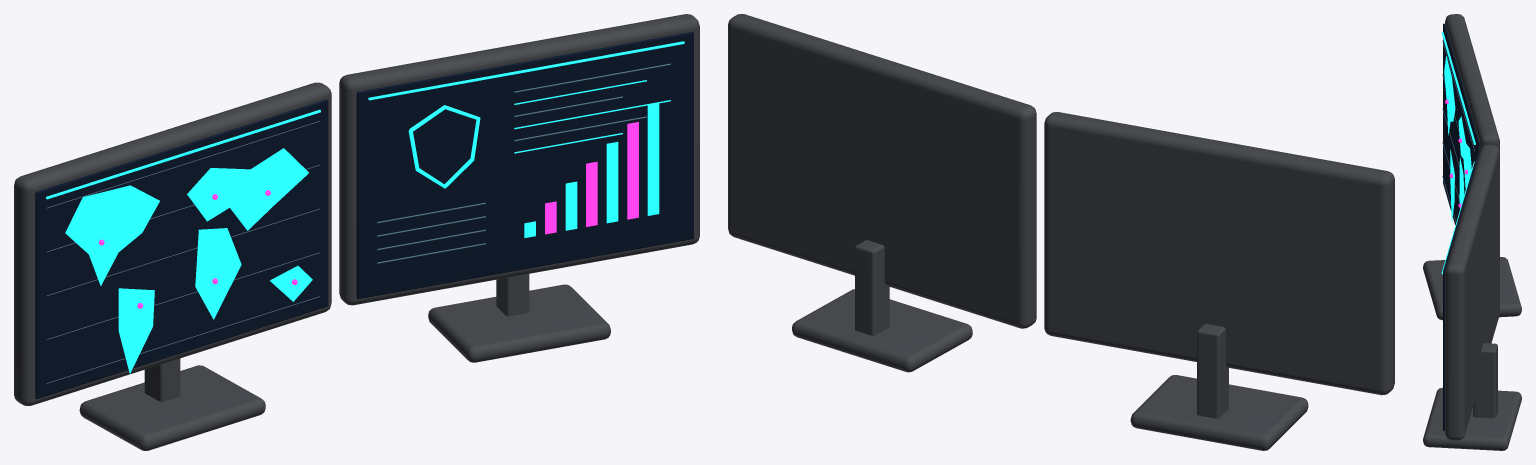
Rendered from estacoes_monitores.glb.
The picture shows the model from 3 angles, left to right: view 1: azimuth 30°, elevation 25°; view 2: azimuth 150°, elevation 25°; view 3: azimuth 270°, elevation 25°; orthographic projection. The views are drawn at different scales.
Visible parts, largest first — view 1: monitores; view 2: monitores; view 3: monitores.
Boxes of the visible parts, <box> form: monitores: <box>14,14,699,450</box>; monitores: <box>728,14,1394,450</box>; monitores: <box>1423,14,1521,450</box>.
Bounding box in the file's own units: 1.06 × 0.4225 × 0.172.
